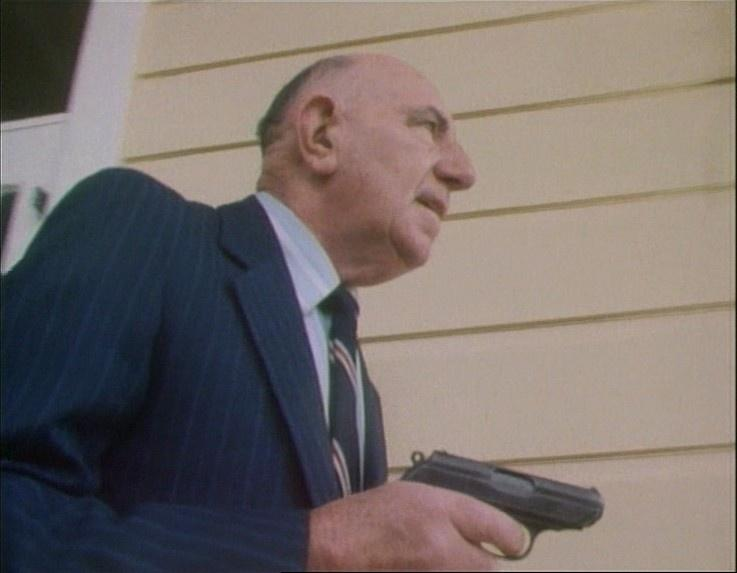gun: (399, 444, 608, 572)
